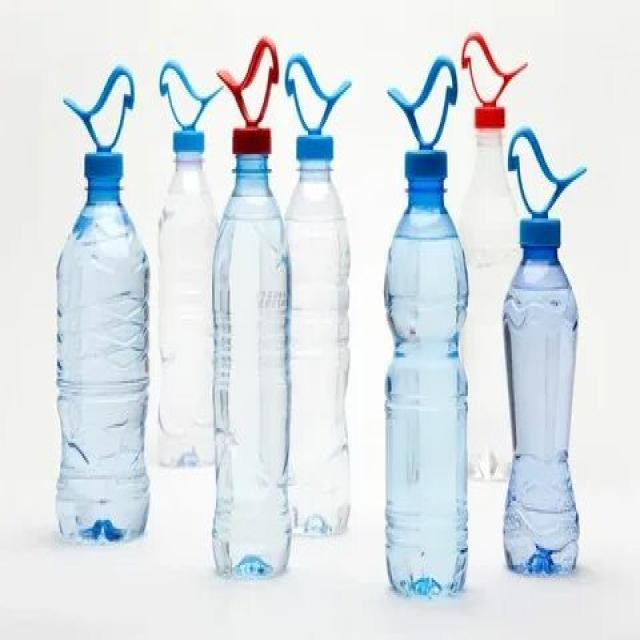blue: (384, 179, 468, 593), (55, 191, 149, 543), (504, 250, 580, 576)
